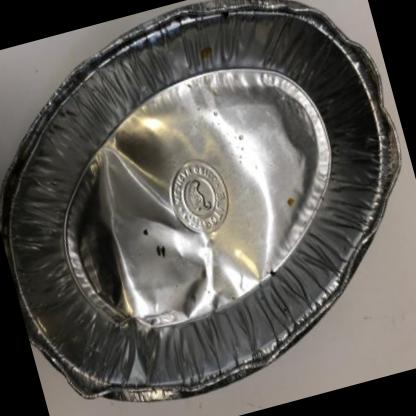Metal: (0, 0, 398, 402)
